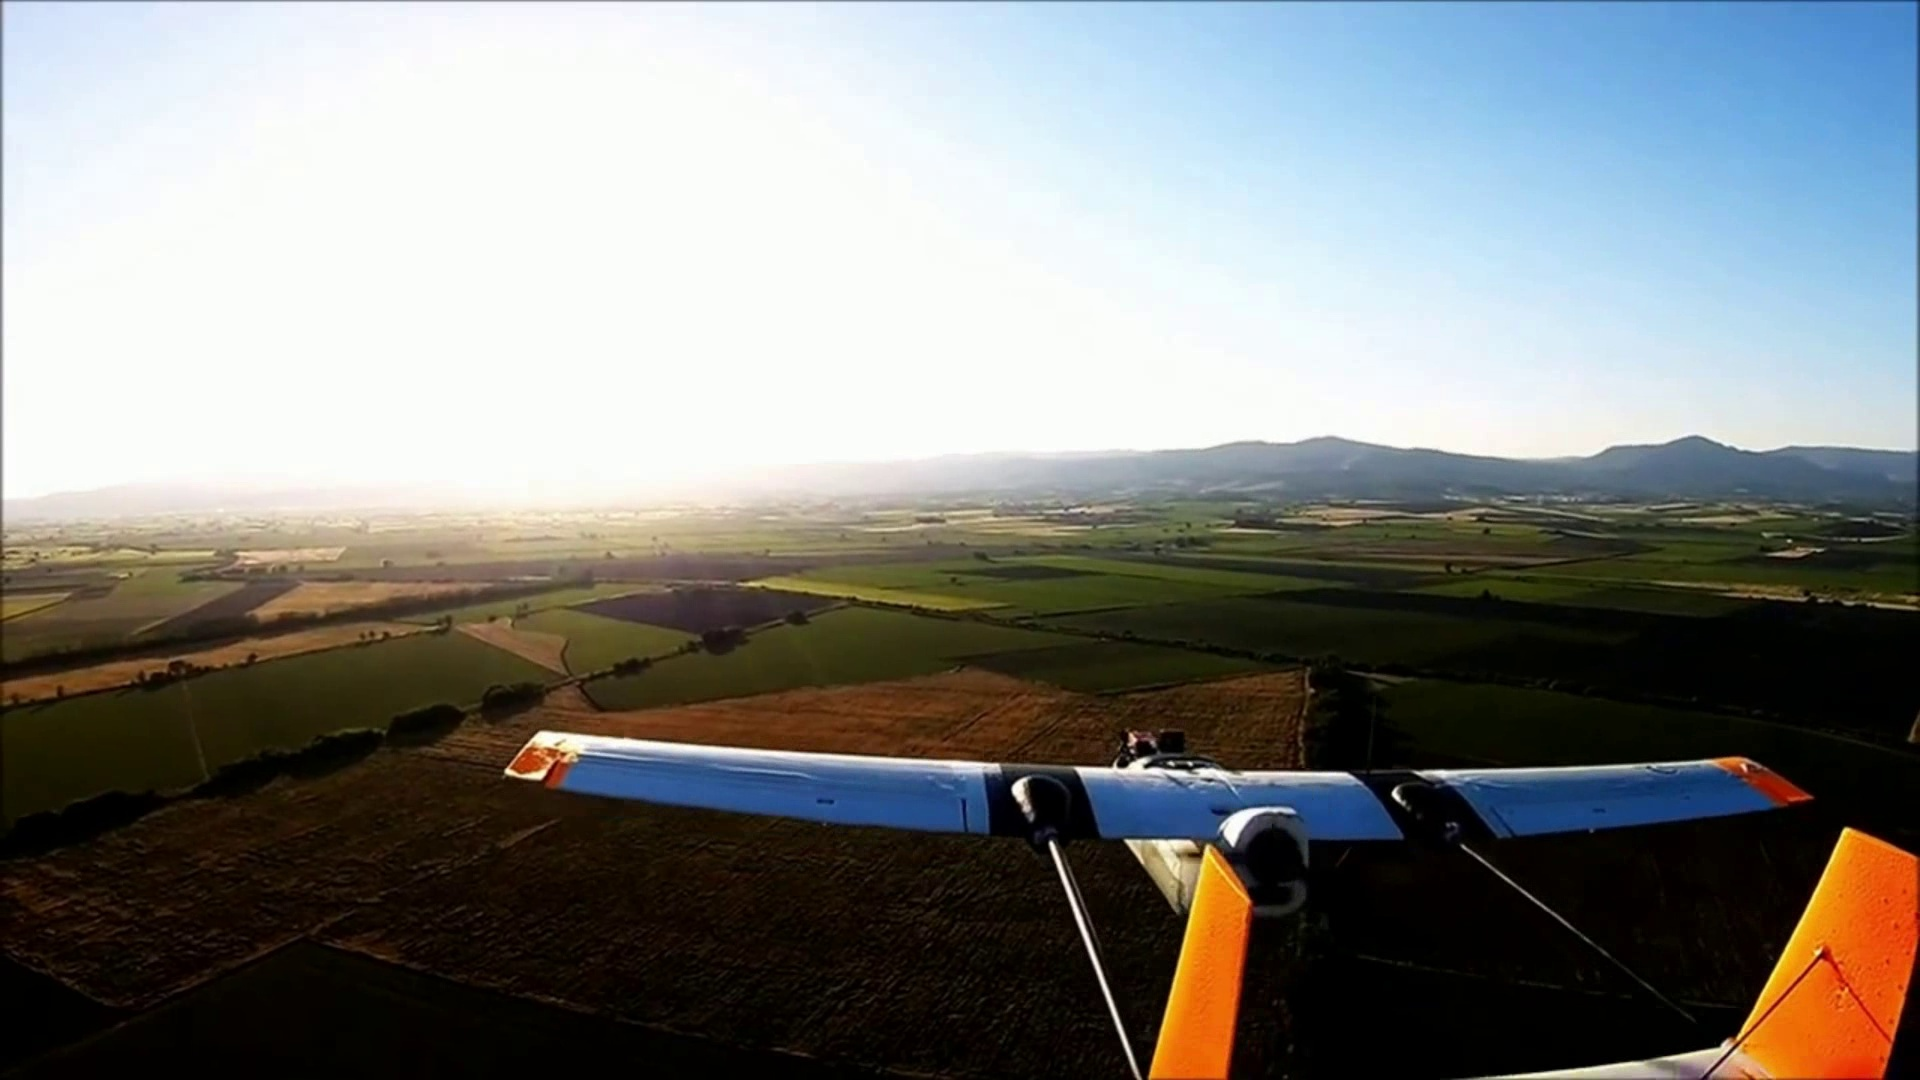airplane: (505, 718, 1917, 1069)
